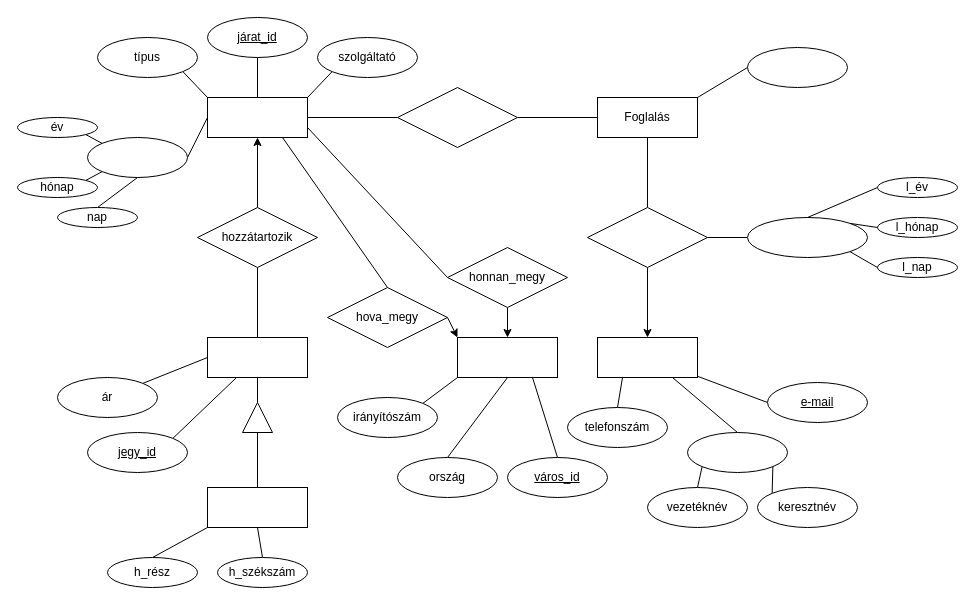
Image size: 975x605. Some labels were removed from this diagram. The shapes that lost their labels are listed below. From the top down, each one's centre as x and y in pixels, then its label:
the point at 797,67: foglalás_id
the point at 257,117: Járat
the point at 457,117: tartalmaz
the point at 137,157: időpont
the point at 647,237: létrehoz
the point at 807,237: létrehozás_dátuma
the point at 257,357: Jegy
the point at 507,357: Város
the point at 647,357: Ügyfél
the point at 737,452: név
the point at 257,507: Helyjegy
